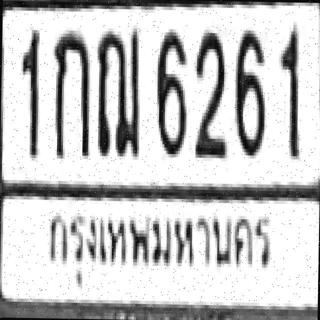A01: (51, 27, 88, 156)
A12: (94, 28, 139, 153)
N01: (277, 26, 299, 158), (20, 28, 39, 156)
N02: (192, 29, 226, 155)
N06: (232, 27, 266, 152), (154, 29, 186, 154)
P04: (43, 202, 276, 300)
